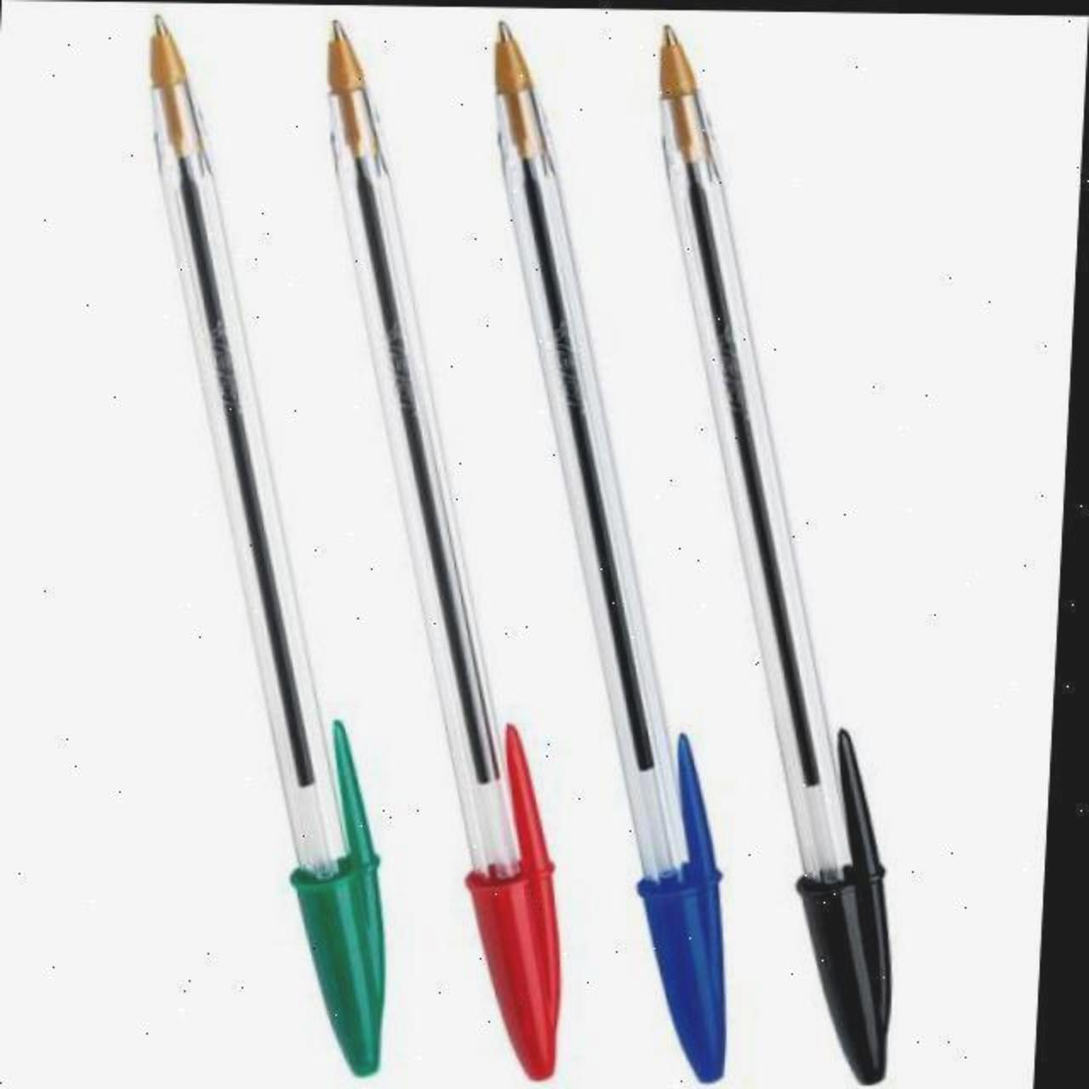pen: (448, 15, 784, 1084), (104, 12, 439, 1077), (614, 19, 946, 1084), (282, 15, 614, 1080)
